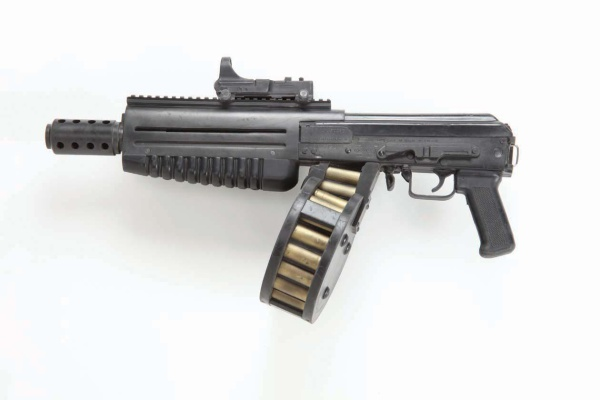ak47: (48, 57, 518, 318)
